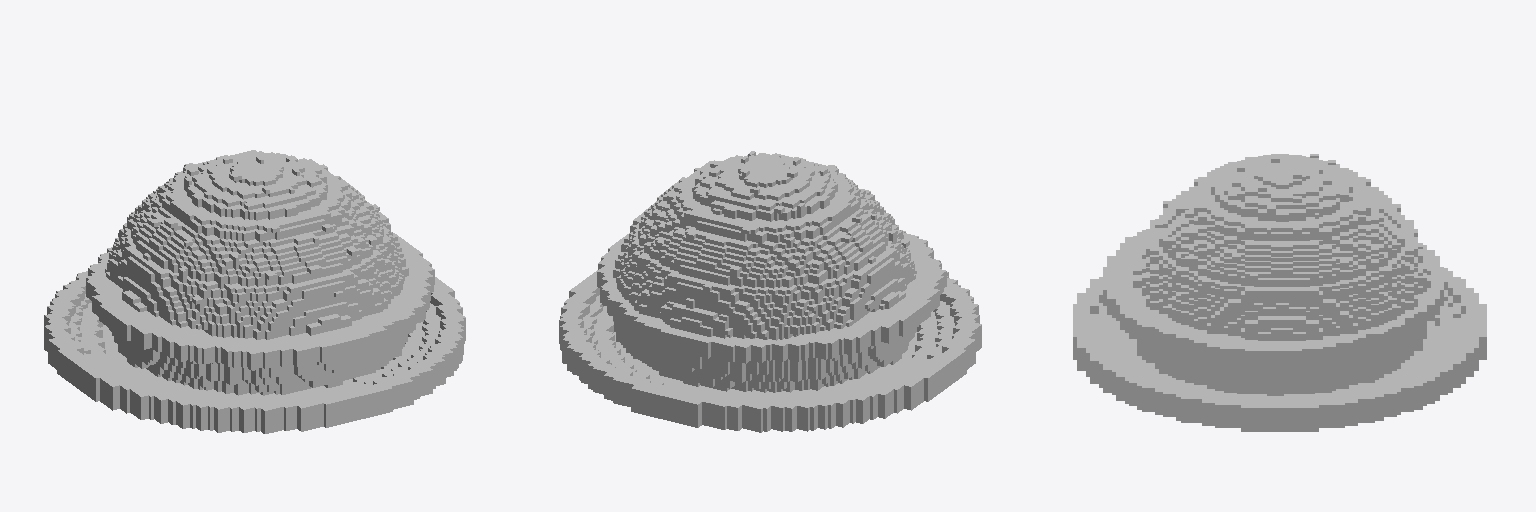
File: PlatoPanLechuga.obj
3 renders of one model, left to right at view 1: azimuth 30°, elevation 25°; view 2: azimuth 150°, elevation 25°; view 3: azimuth 270°, elevation 25°, orthographic.
Visible parts, largest first — view 1: object 1; view 2: object 1; view 3: object 1.
Boxes of the visible parts, x1=… form: object 1: x1=44, y1=150, x2=465, y2=433; object 1: x1=559, y1=151, x2=981, y2=432; object 1: x1=1073, y1=154, x2=1486, y2=431.
Size of the model in its own units: 9.6 by 4.5 by 9.6.